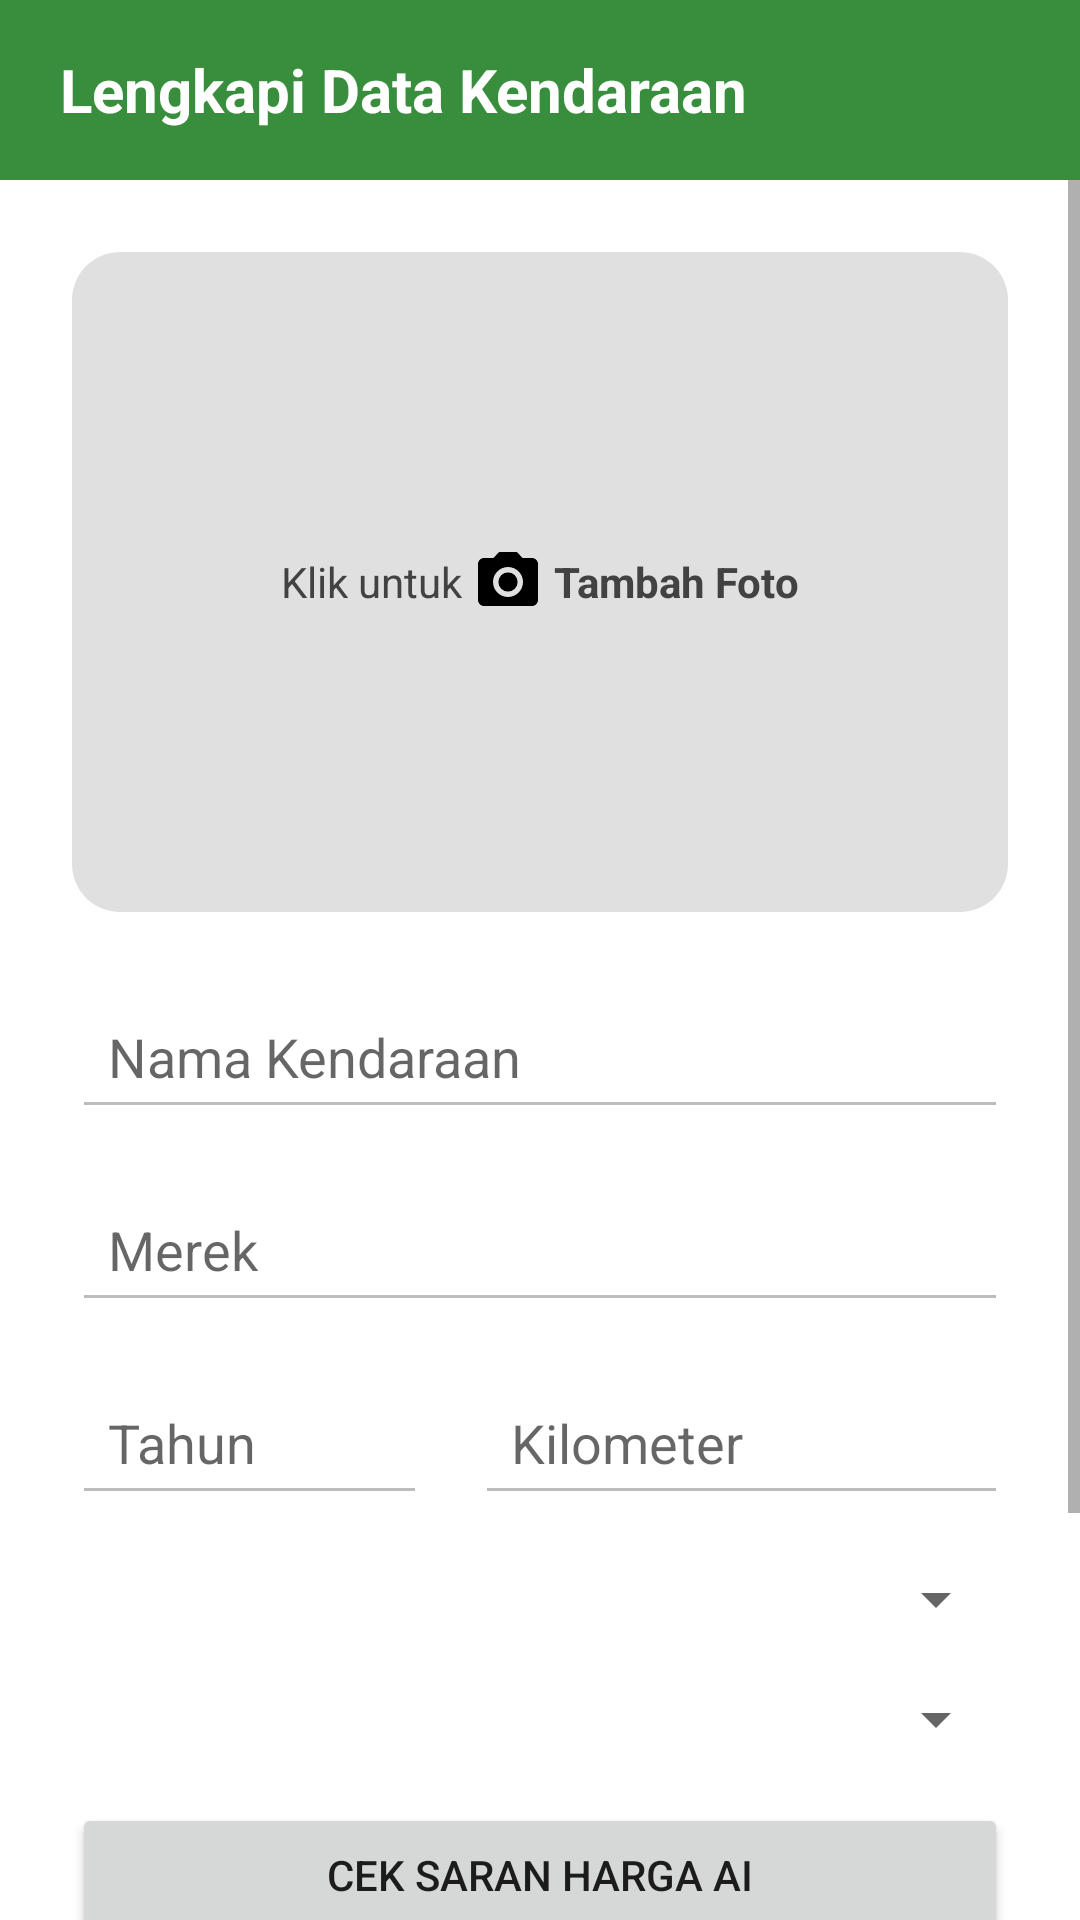

Icons on this 1080x1920 Android screen, each with its box as (x1, y1, x2, y2):
camera: (478, 552, 538, 606)
